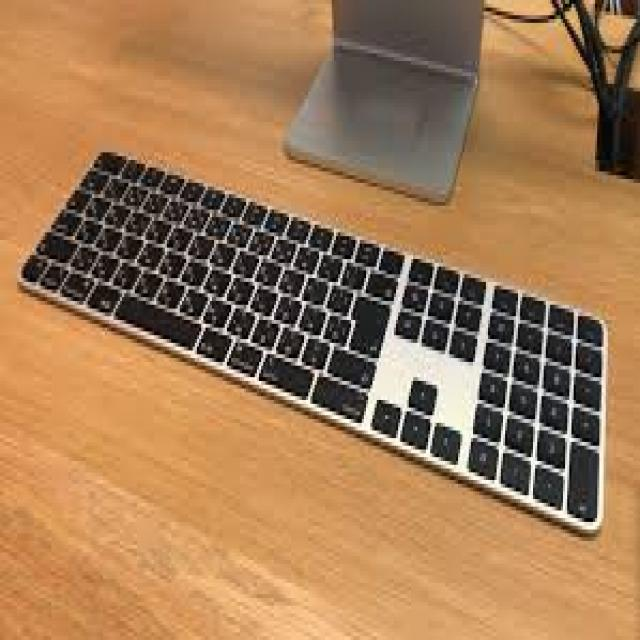others: (2, 137, 629, 541)
